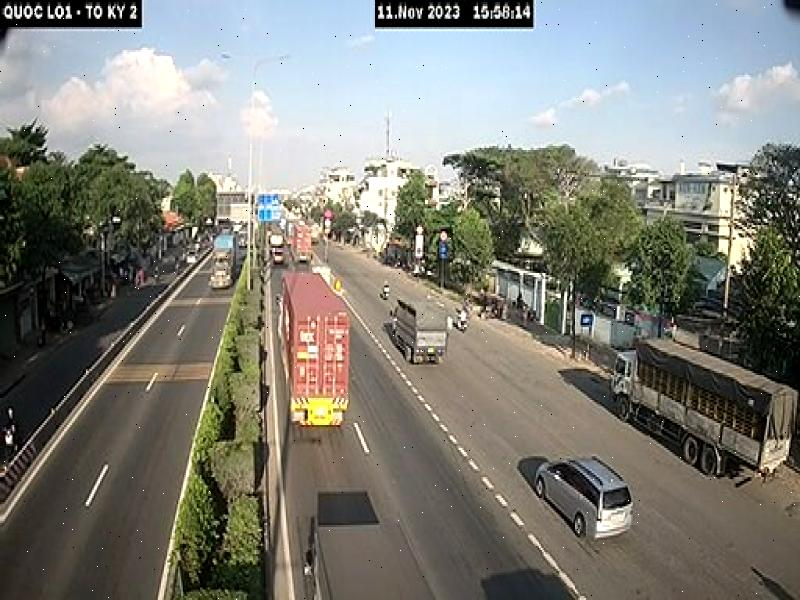truck: (611, 349, 797, 485), (275, 268, 351, 433), (391, 296, 450, 365)
